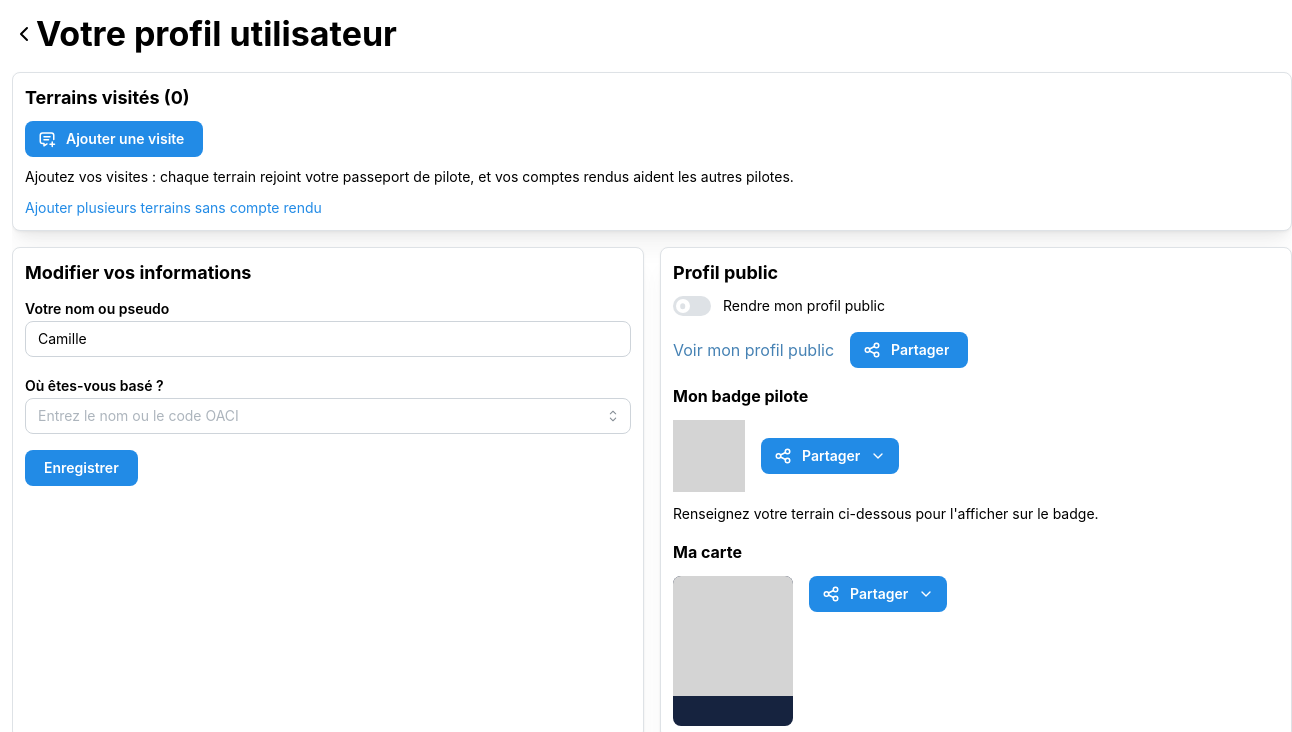
Test: Profile › confirms a saved profile
Click the button "Enregistrer": [81, 468] box [25,450,138,486]
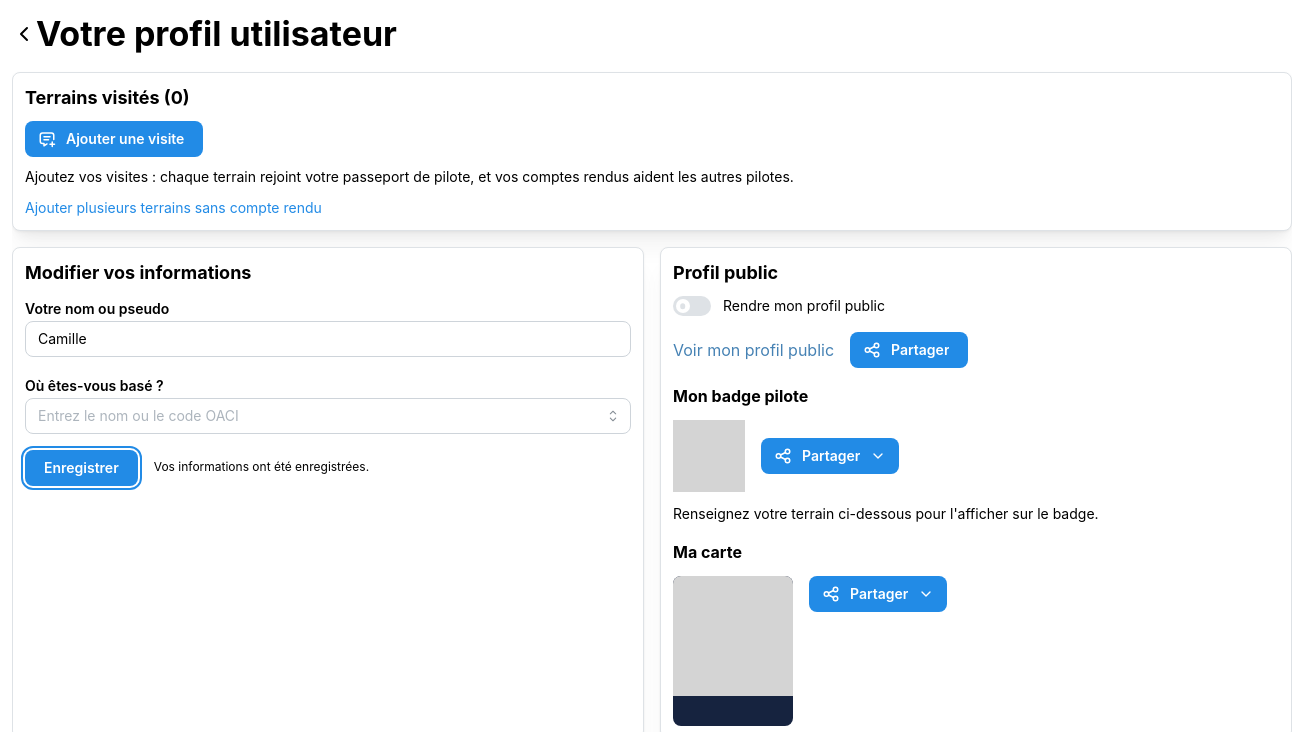
Result: the text "Vos informations ont été enregistrées." is shown at [154,459,369,476]
